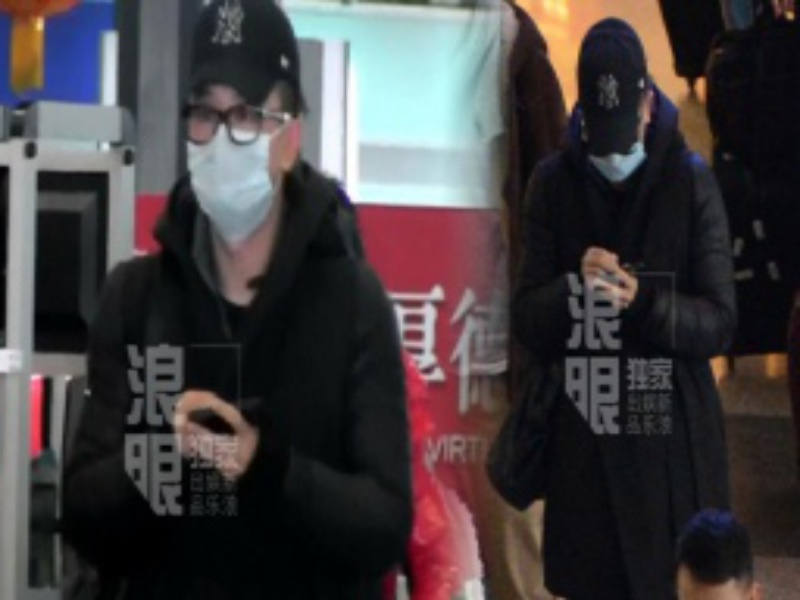ManaoArotava: (174, 8, 326, 271), (562, 34, 670, 207)
